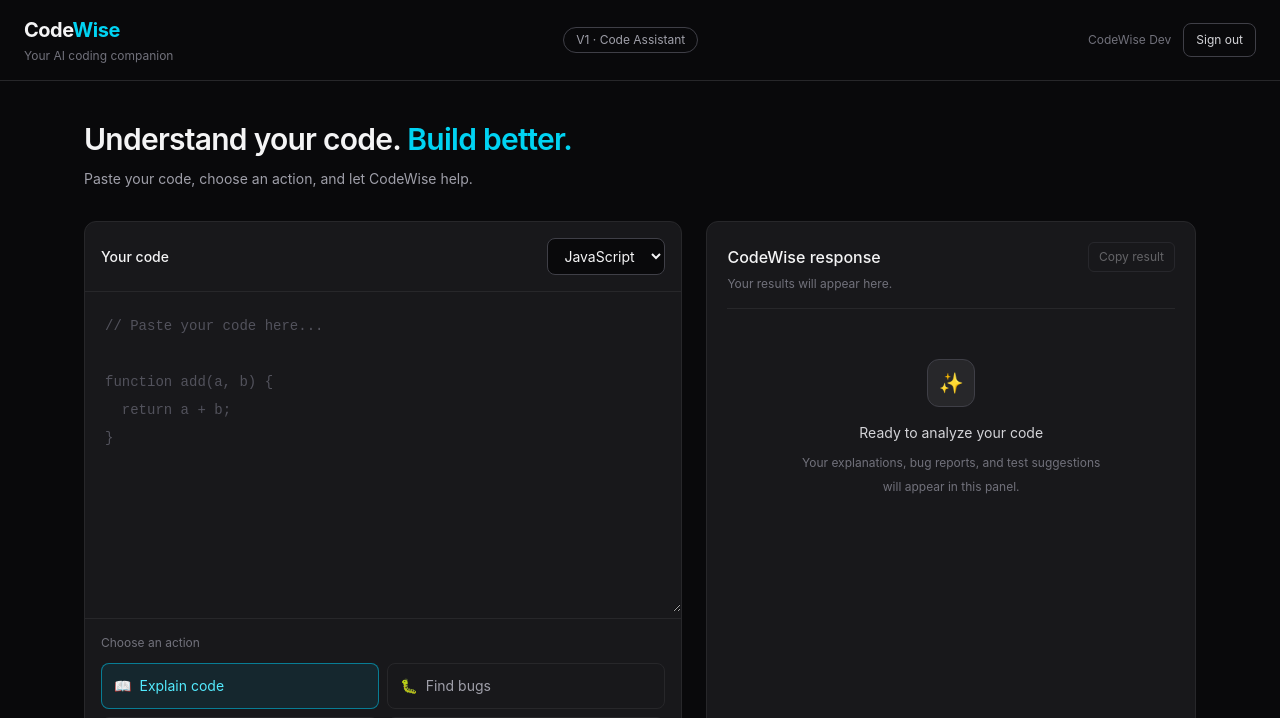
it: CodeWise analysis flow › shows a readable API error
Replace the text in the text box named "Code to analyze" with "const answer = 42;": (383, 452) [85,292,681,612]
(page scrolled)
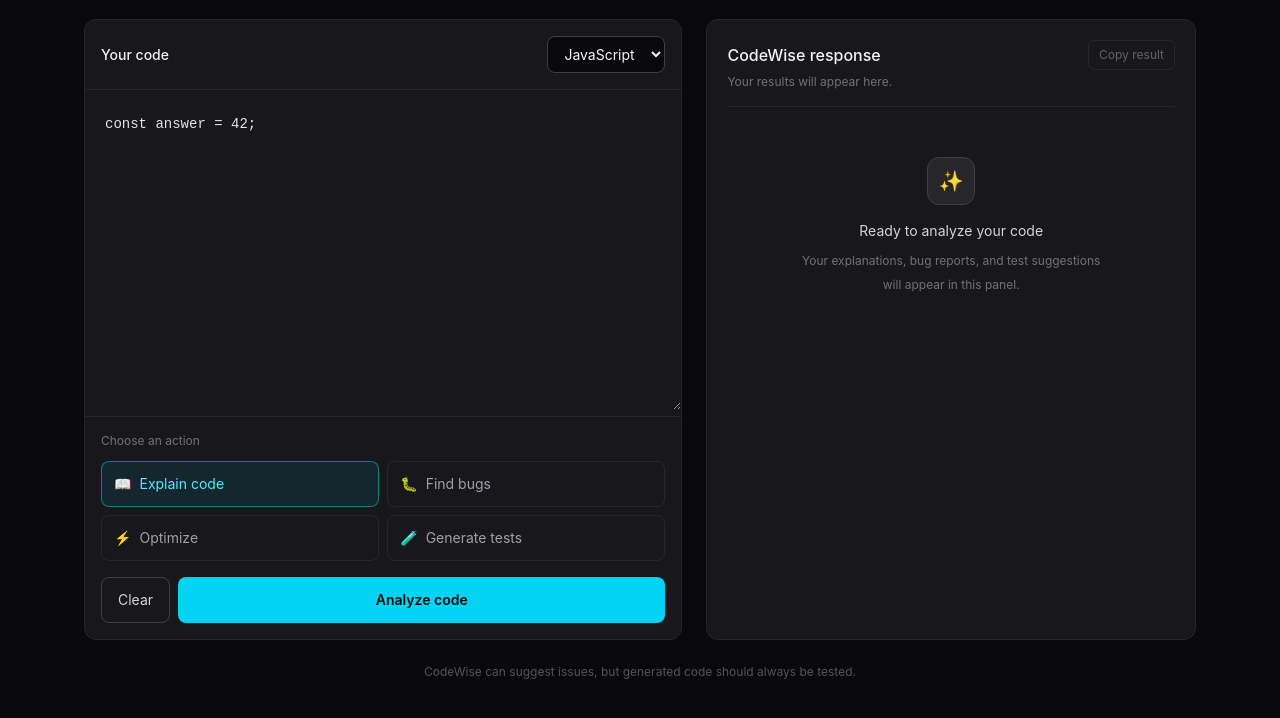
Click the button "Analyze code": (422, 600) [178,577,665,623]
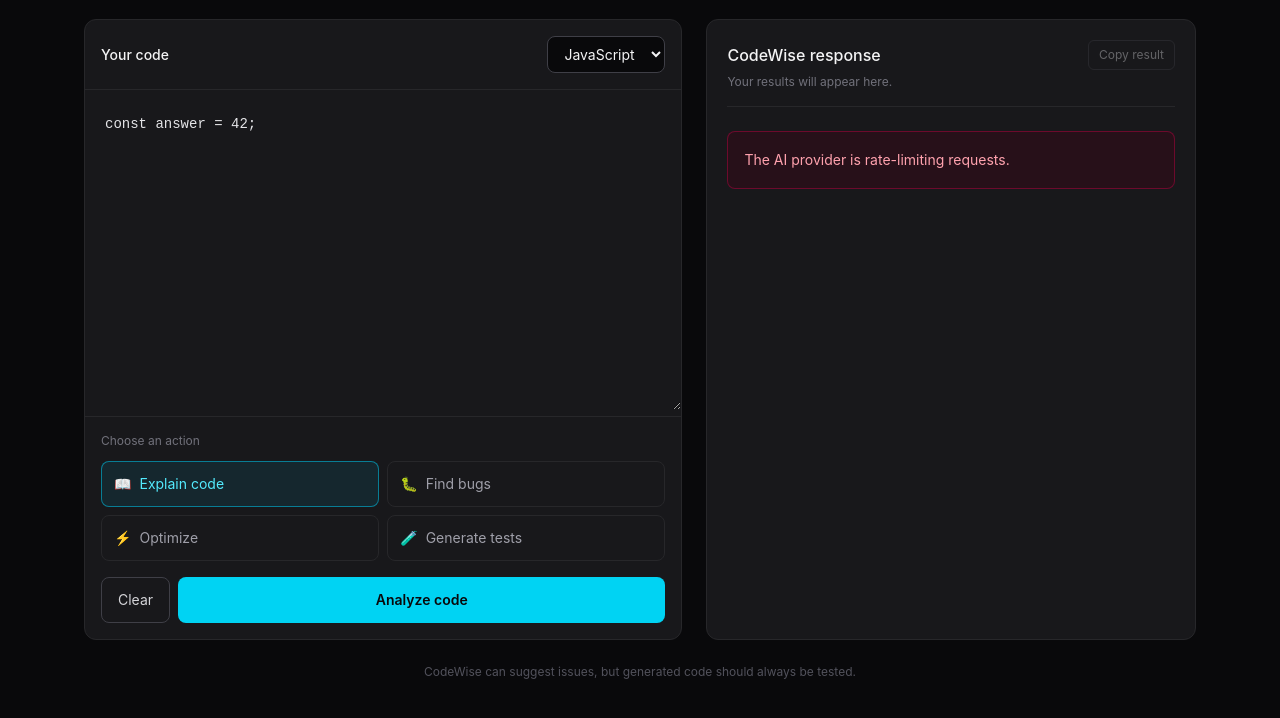
Expected: the message shows "rate-limiting", [744,151,1010,168]
